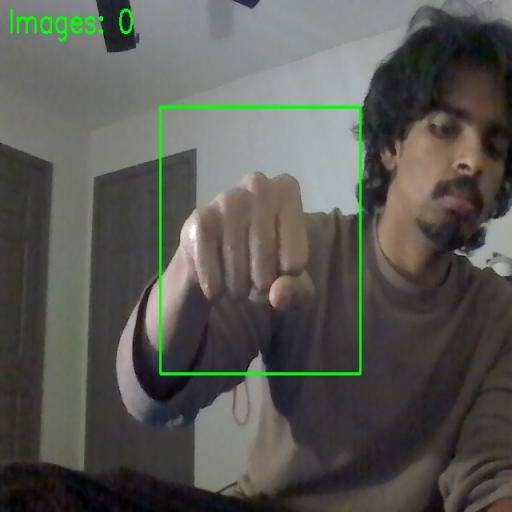backspace: (161, 107, 360, 373)
